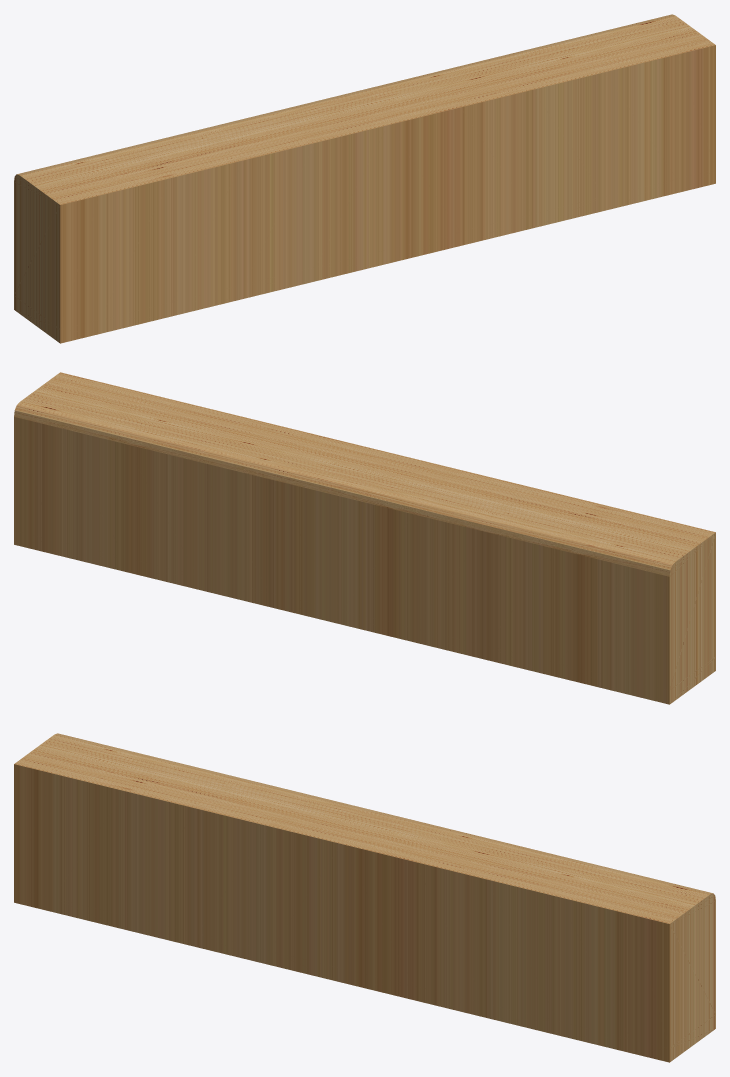
File: hoofdsteun.obj
3 renders of one model, top to bottom at view 1: azimuth 30°, elevation 25°; view 2: azimuth 150°, elevation 25°; view 3: azimuth 330°, elevation 25°, orthographic.
Parts seen in each view (by area): view 1: Hoofdsteun; view 2: Hoofdsteun; view 3: Hoofdsteun.
Part boxes in pixels (<box>): Hoofdsteun: <box>14,14,715,343</box>; Hoofdsteun: <box>14,372,715,704</box>; Hoofdsteun: <box>14,733,715,1062</box>.
Bounding box in the file's own units: 6.44 × 1.3 × 0.7874.
Materials: 1 (1 with a texture image).
